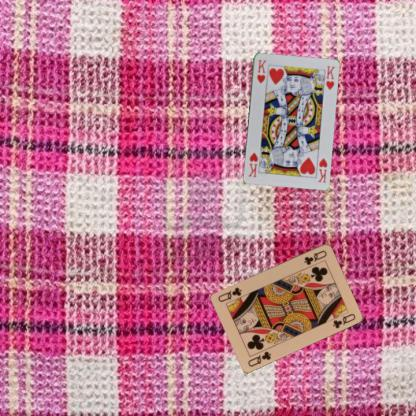Kh: (315, 155, 328, 184), (254, 58, 268, 84)
Qc: (245, 349, 273, 368), (302, 247, 328, 266)
